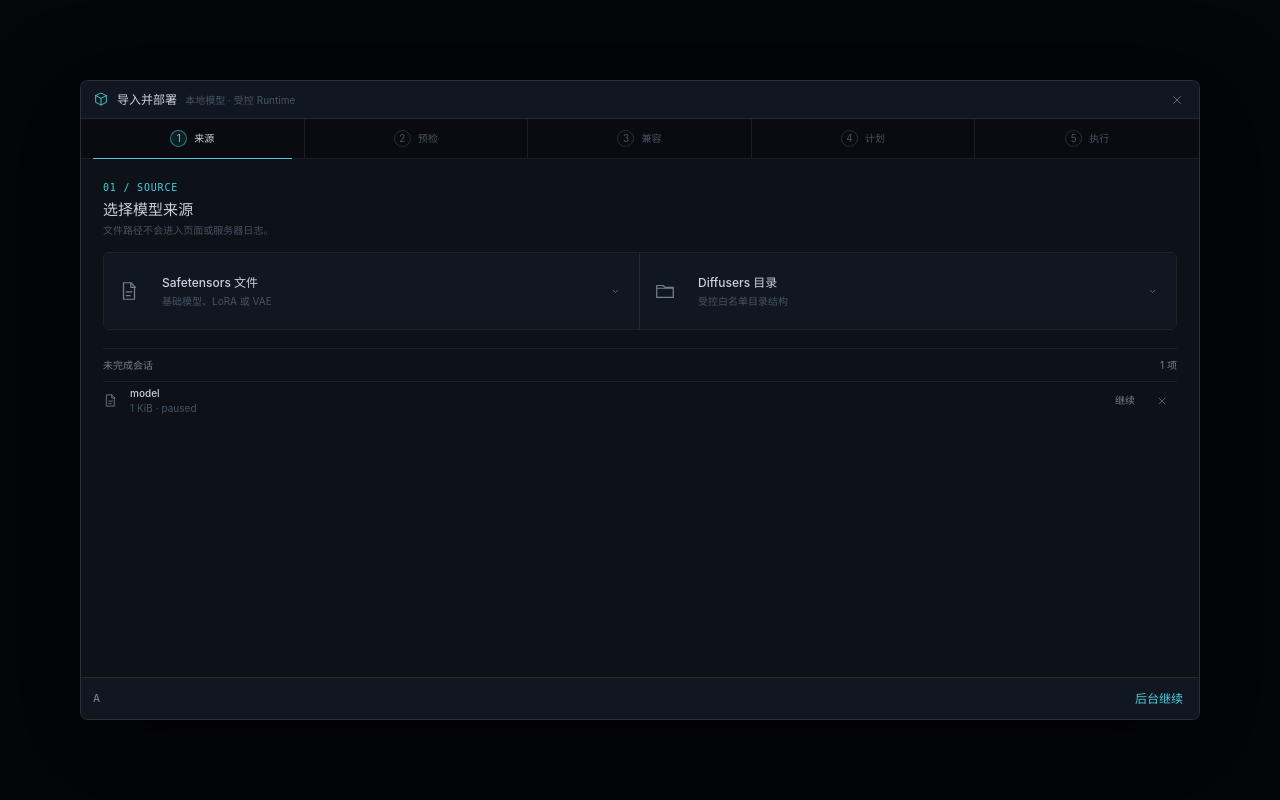
ModelImportWizard resume › restores bound metadata and bytes using one GET, with no upload
Click the button "继续" at (1125, 401), box [1108,387,1142,414]
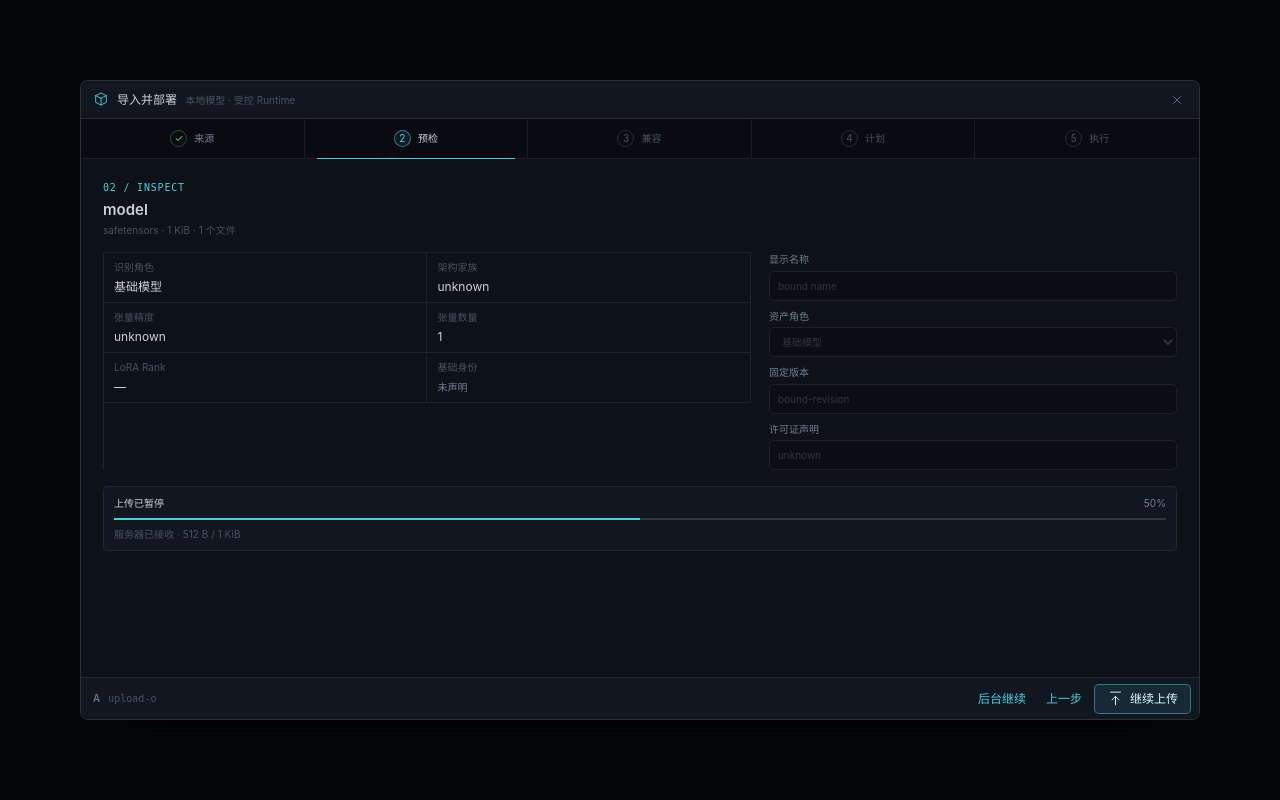
Now the element with class "import-live-progress" shows "50%", box [1144,497,1166,509]
Now the element with class "import-live-progress" shows "上传已暂停", box [114,497,164,509]
Now the text "继续上传" is shown, box [1130,690,1178,707]
